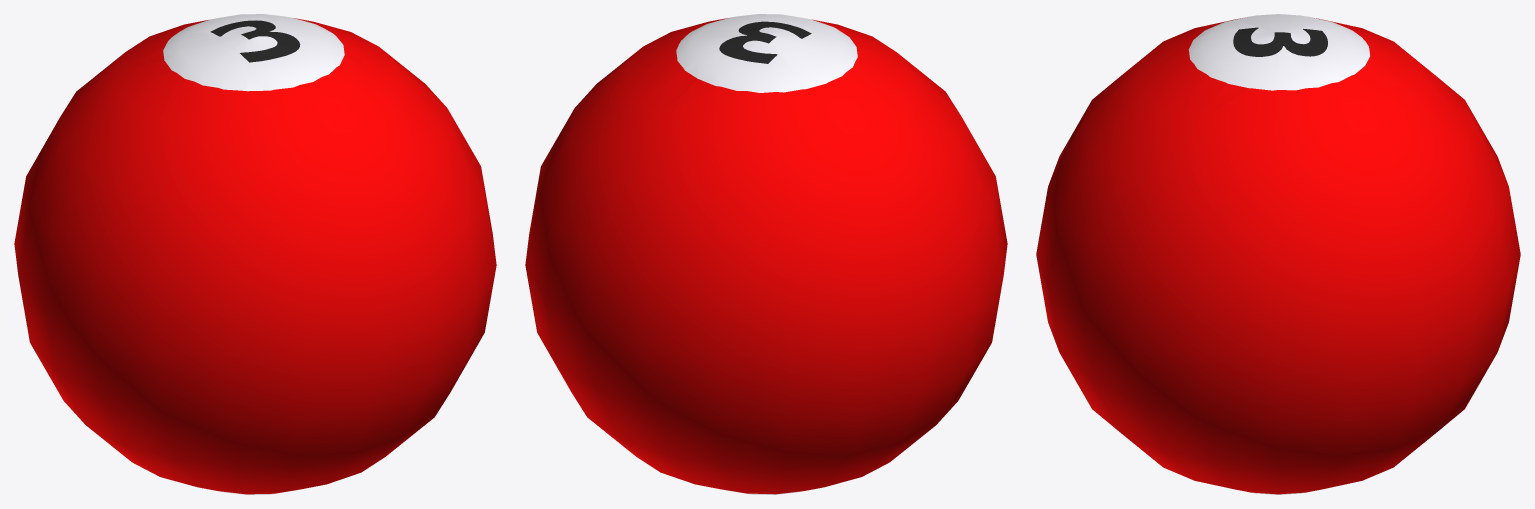
Rendered from 3ball.dae.
3 renders of one model, left to right at view 1: azimuth 30°, elevation 25°; view 2: azimuth 150°, elevation 25°; view 3: azimuth 270°, elevation 25°, orthographic.
Visible parts, largest first — view 1: Billiard_Ball__3_Red (×3); view 2: Billiard_Ball__3_Red (×3); view 3: Billiard_Ball__3_Red (×3).
Part boxes in pixels (x1,y1,x2,y2): Billiard_Ball__3_Red (×3): (14,14,496,494); Billiard_Ball__3_Red (×3): (525,14,1007,494); Billiard_Ball__3_Red (×3): (1036,14,1520,494).
Size of the model in its own units: 1.63 by 1.63 by 1.63.
